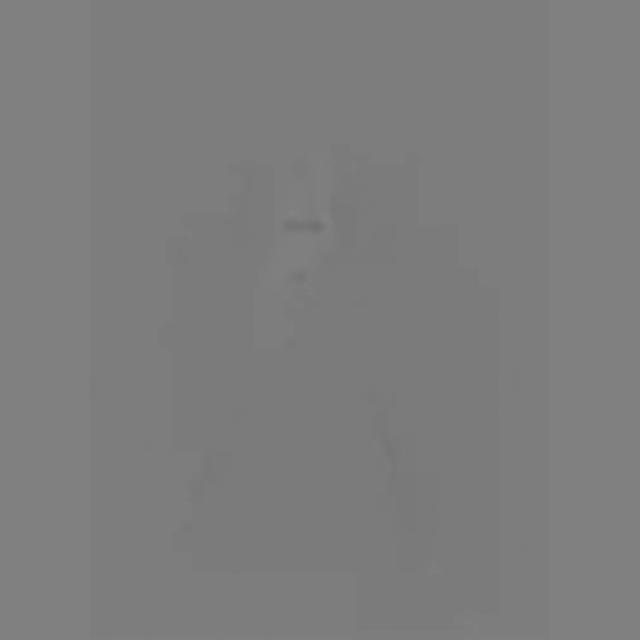gubia: (176, 66, 418, 573)
